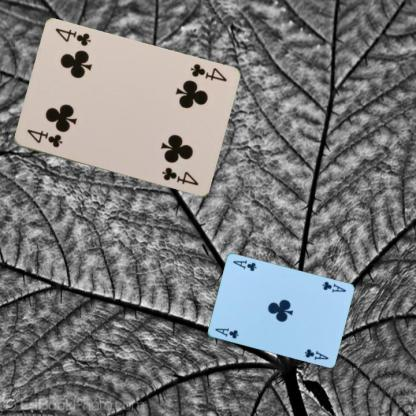4c: (187, 61, 228, 83), (24, 127, 64, 149)
Ac: (319, 279, 347, 294), (212, 325, 239, 340)
